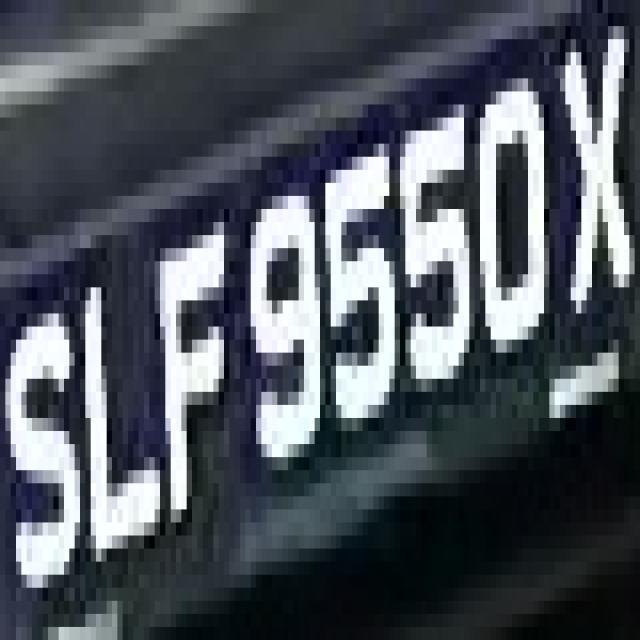0: (475, 65, 544, 379)
5: (390, 91, 486, 405), (320, 131, 405, 457)
9: (234, 170, 330, 470)
F: (139, 183, 240, 562)
L: (80, 222, 171, 588)
S: (5, 261, 86, 614)
X: (538, 0, 640, 339)
